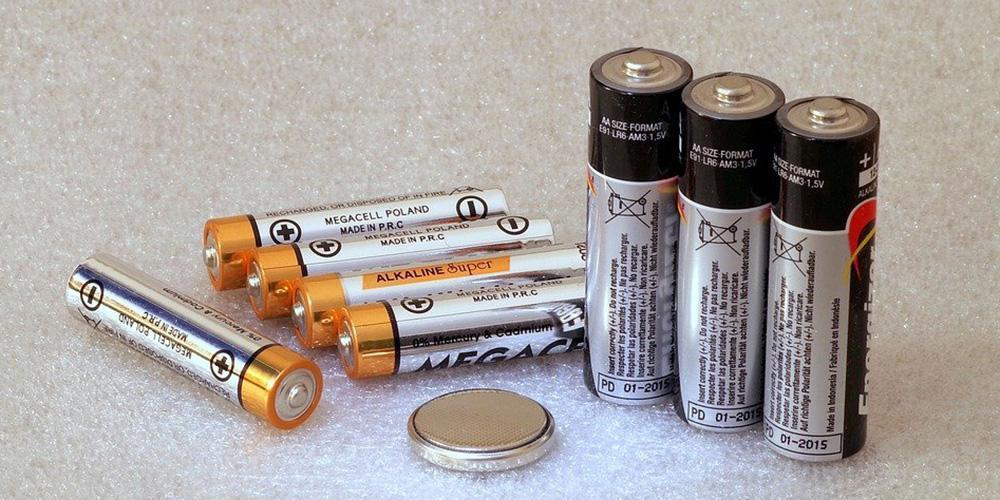AA: (63, 249, 328, 431), (760, 91, 883, 467), (579, 44, 700, 409), (200, 182, 513, 294), (333, 271, 587, 381)
COIN: (405, 386, 559, 476)
